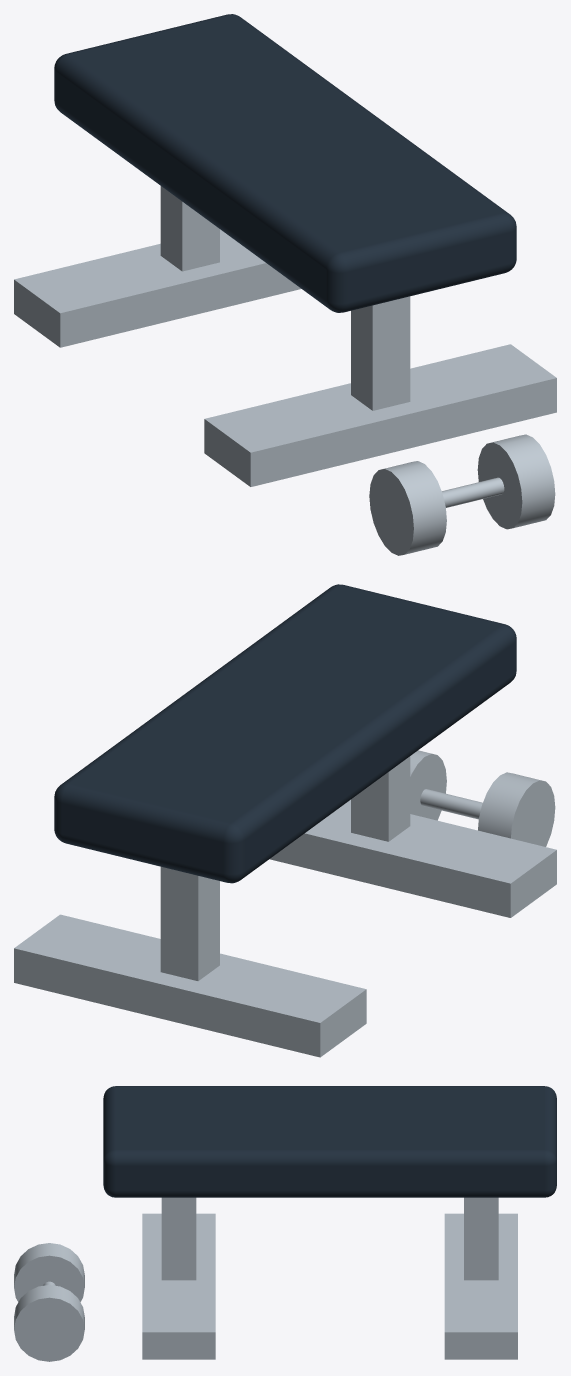
Rendered from dumbbell_split_bench.glb.
3 views of the same model, one above another, from view 1: azimuth 30°, elevation 25°; view 2: azimuth 150°, elevation 25°; view 3: azimuth 270°, elevation 25° (orthographic). The views are drawn at different scales.
Parts seen in each view (by area): view 1: seat, benchFoot (×2), Ldumbbell, benchLeg (×2); view 2: seat, benchFoot (×2), benchLeg (×2), Ldumbbell; view 3: seat, benchFoot (×2), Ldumbbell, benchLeg (×2).
Boxes of the visible parts, left/top/right/bottom form: seat: left=54, top=14, right=516, bottom=312; benchFoot (×2): left=14, top=229, right=556, bottom=486; Ldumbbell: left=369, top=434, right=555, bottom=555; benchLeg (×2): left=160, top=186, right=410, bottom=410; seat: left=54, top=584, right=516, bottom=883; benchFoot (×2): left=14, top=799, right=556, bottom=1057; benchLeg (×2): left=160, top=756, right=410, bottom=980; Ldumbbell: left=410, top=750, right=555, bottom=846; seat: left=103, top=1086, right=556, bottom=1197; benchFoot (×2): left=142, top=1213, right=517, bottom=1359; Ldumbbell: left=14, top=1243, right=84, bottom=1361; benchLeg (×2): left=161, top=1197, right=498, bottom=1280.
Bounding box in the file's own units: 0.65 × 0.552 × 1.26.
